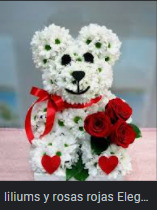RedRose: (82, 109, 112, 144), (110, 118, 141, 145)
